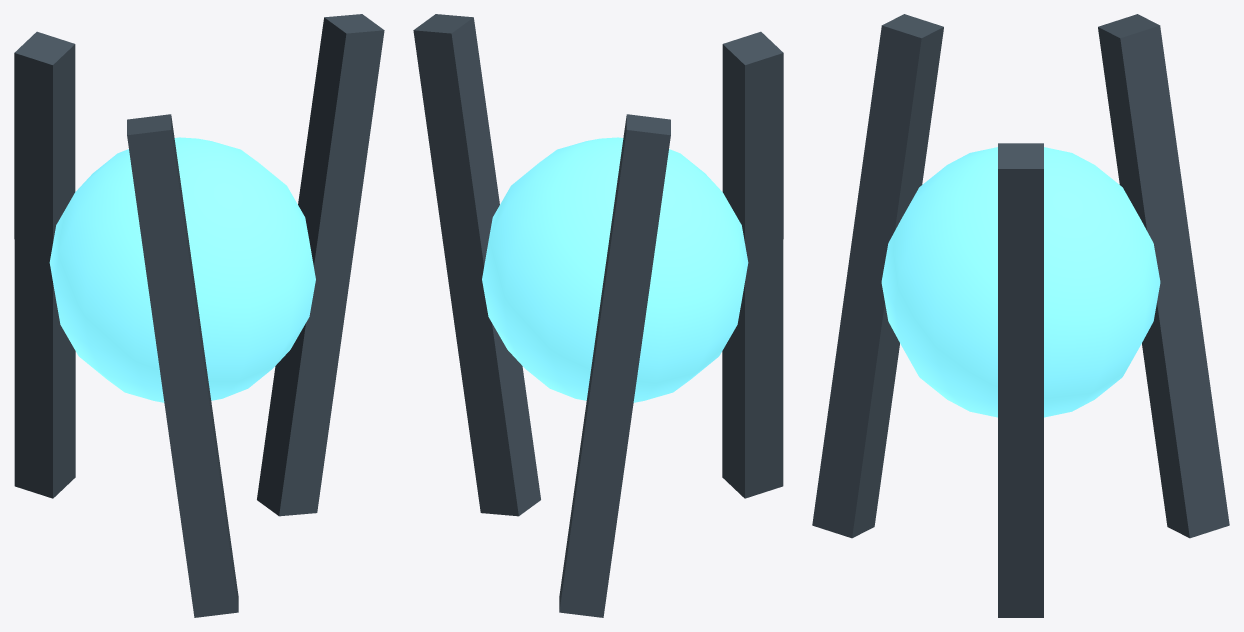
Rendered from hollow.glb.
The picture shows the model from 3 angles, left to right: view 1: azimuth 30°, elevation 25°; view 2: azimuth 150°, elevation 25°; view 3: azimuth 270°, elevation 25°; orthographic projection. The views are drawn at different scales.
Parts seen in each view (by area): view 1: Hollow; view 2: Hollow; view 3: Hollow.
Part boxes in pixels (<box>): Hollow: <box>14,14,384,617</box>; Hollow: <box>413,14,783,617</box>; Hollow: <box>812,14,1229,617</box>.
Bounding box in the file's own units: 0.287 × 0.4277 × 0.3292.
